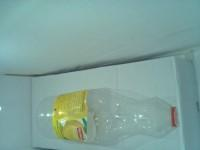bottle: (33, 85, 179, 148)
